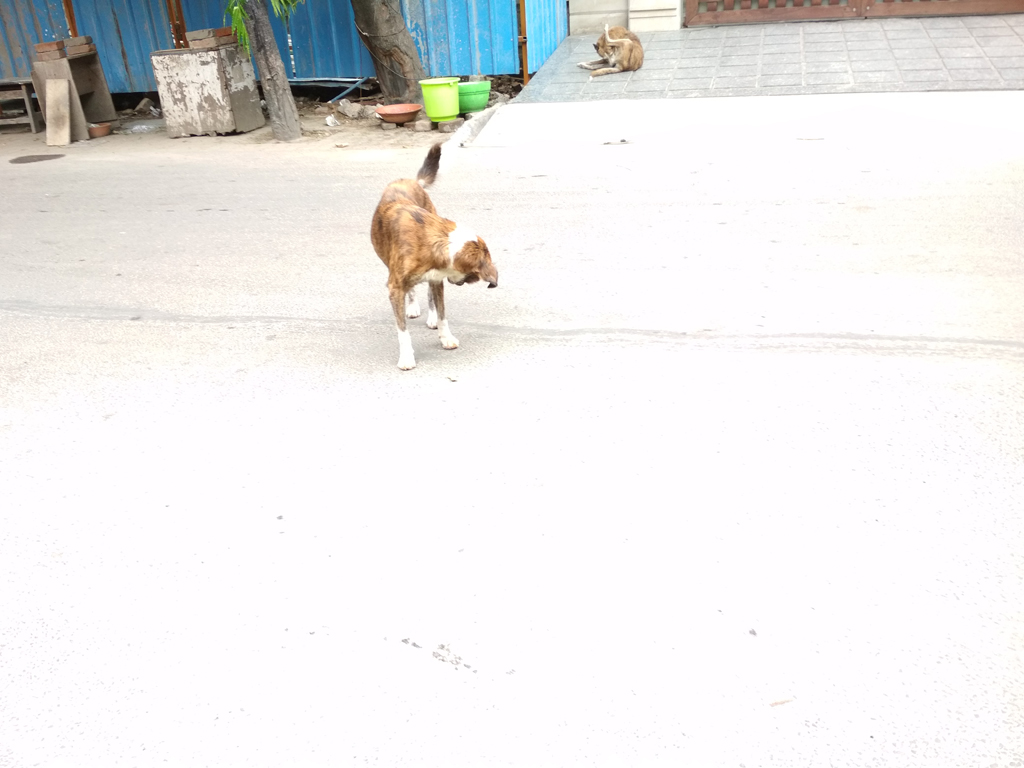dog: (369, 145, 498, 371), (574, 23, 645, 81)
